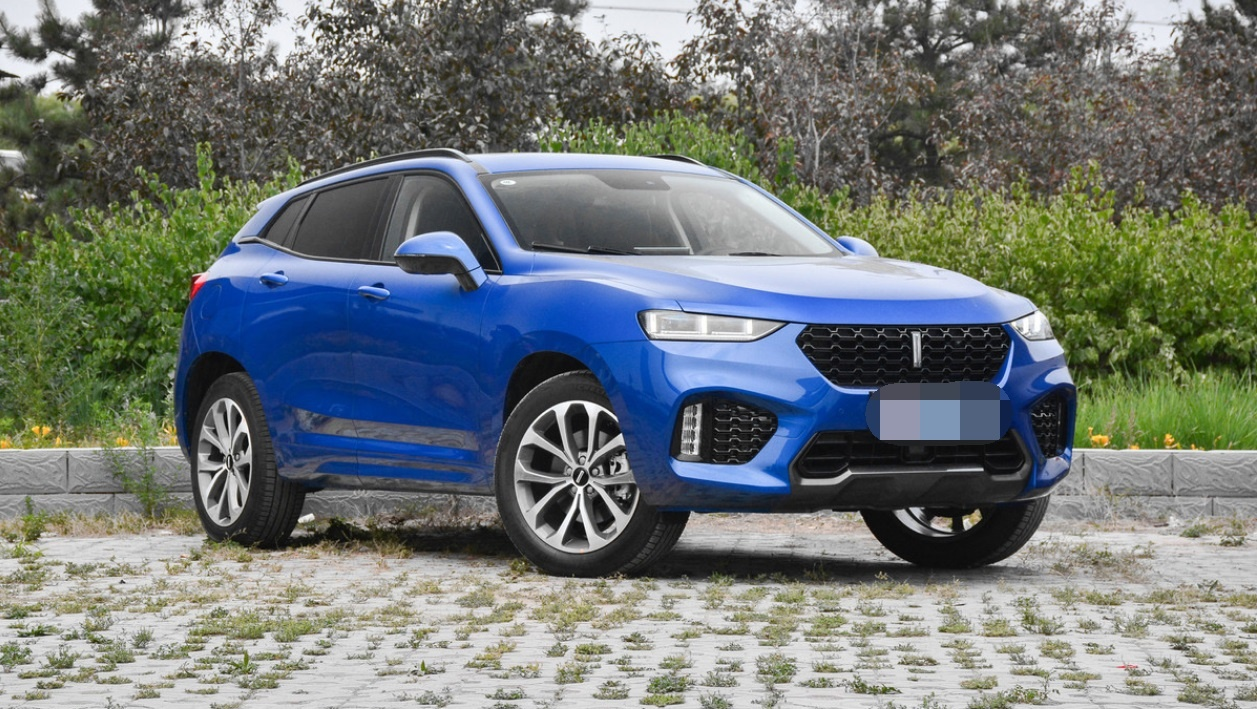SUV: (190, 126, 1076, 588)
